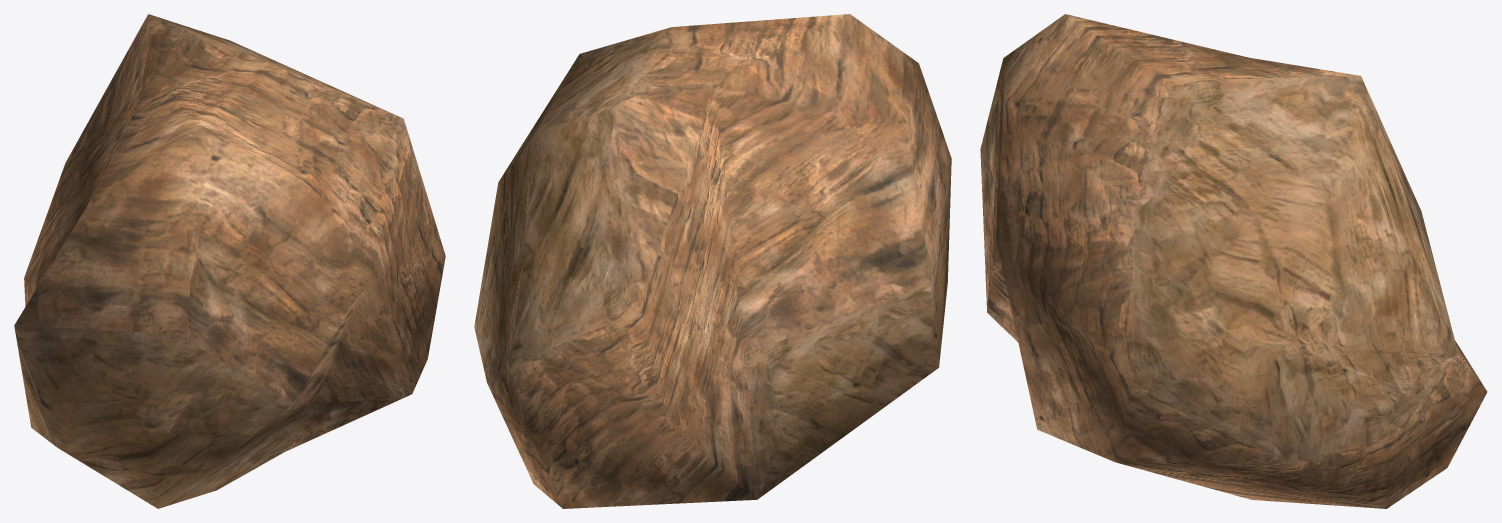
File: rock_tatt_bensmesa_boulder_a2_l2.fbx
The picture shows the model from 3 angles, left to right: view 1: azimuth 30°, elevation 25°; view 2: azimuth 150°, elevation 25°; view 3: azimuth 270°, elevation 25°; orthographic projection. The views are drawn at different scales.
Parts seen in each view (by area): view 1: mesh_node; view 2: mesh_node; view 3: mesh_node.
Part boxes in pixels (<box>): mesh_node: <box>14,14,445,508</box>; mesh_node: <box>474,14,951,508</box>; mesh_node: <box>980,14,1487,508</box>.
Bounding box in the file's own units: 3.11 × 3.14 × 3.21.
